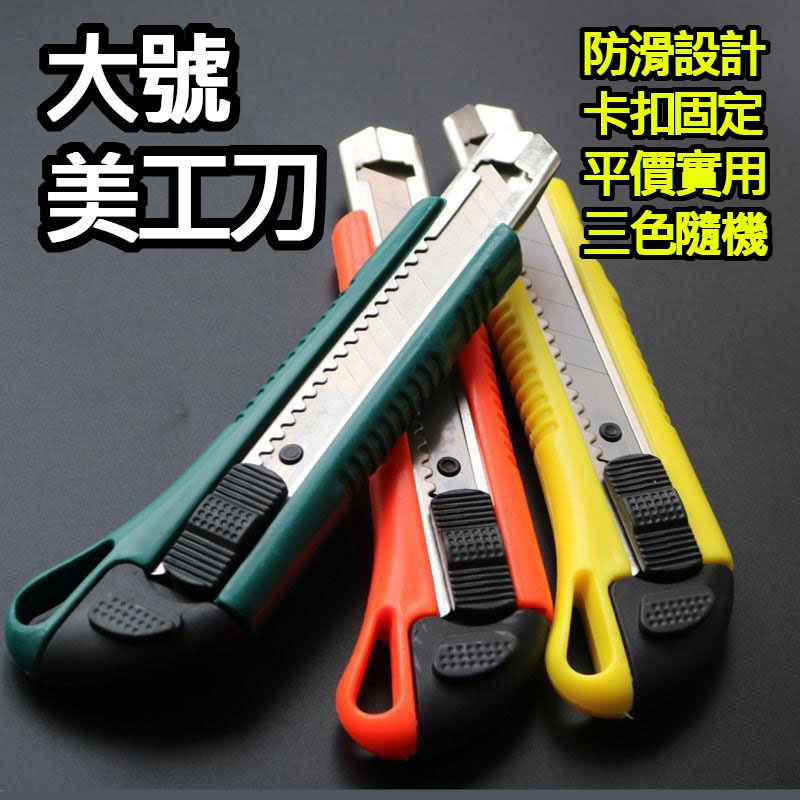cutter: (4, 120, 561, 666), (427, 102, 738, 715), (331, 126, 556, 762)
